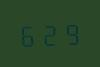nine: (61, 19, 81, 45)
six: (18, 21, 38, 47)
two: (40, 20, 60, 46)
